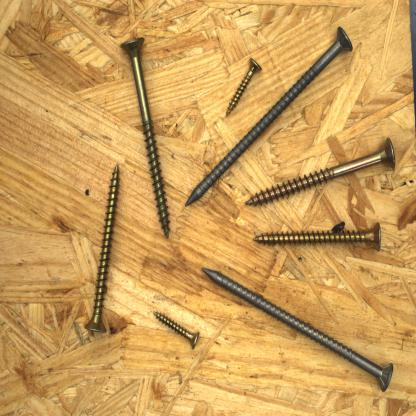screw: (183, 23, 355, 209), (201, 265, 394, 394), (244, 134, 398, 207), (120, 34, 172, 240), (82, 161, 120, 334), (252, 219, 383, 253), (223, 56, 263, 119), (152, 308, 201, 352)
